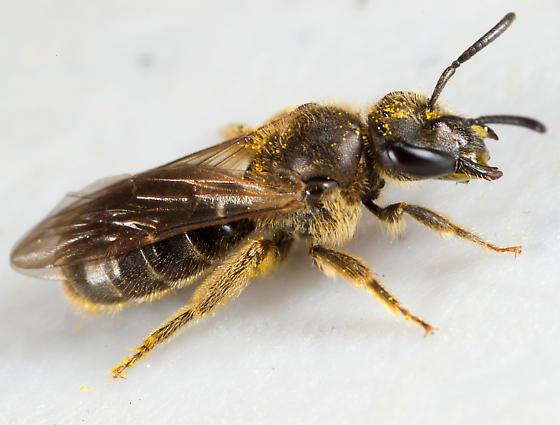Lasioglossum: (10, 18, 537, 363)
